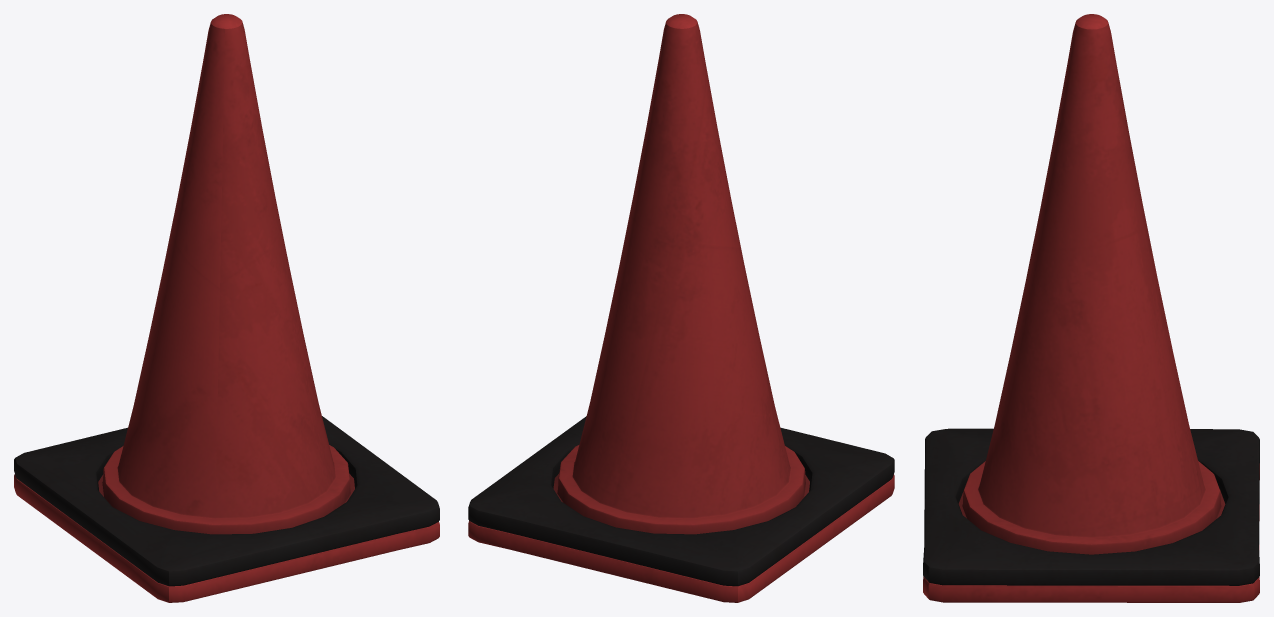
Rendered from Preset_ConeA.fbx.
3 renders of one model, left to right at view 1: azimuth 30°, elevation 25°; view 2: azimuth 150°, elevation 25°; view 3: azimuth 270°, elevation 25°, orthographic. The views are drawn at different scales.
Parts seen in each view (by area): view 1: Body, Weight; view 2: Body, Weight; view 3: Body, Weight.
Boxes of the visible parts, <box> form: Body: <box>14,14,439,602</box>; Weight: <box>14,416,439,586</box>; Body: <box>468,14,894,602</box>; Weight: <box>468,416,894,586</box>; Body: <box>923,14,1259,602</box>; Weight: <box>923,428,1259,585</box>.
Bounding box in the file's own units: 58.28 × 58.44 × 98.49.
Materials: 2 (2 with a texture image).
